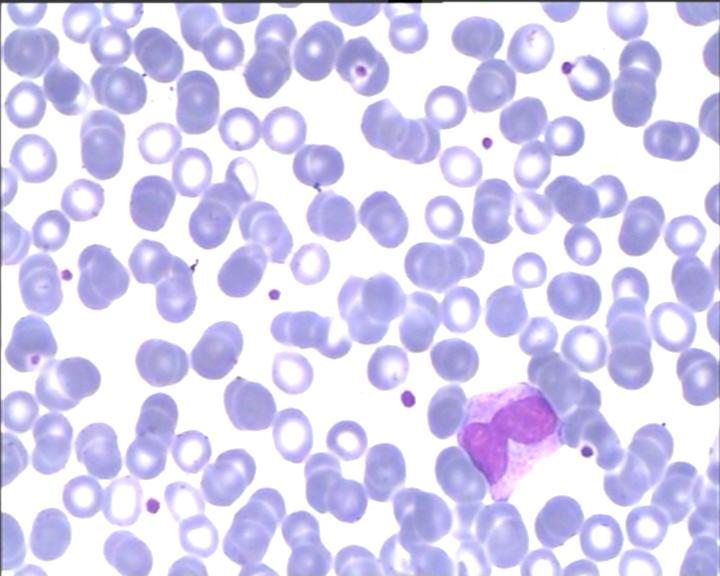mono: (456, 377, 558, 507)
